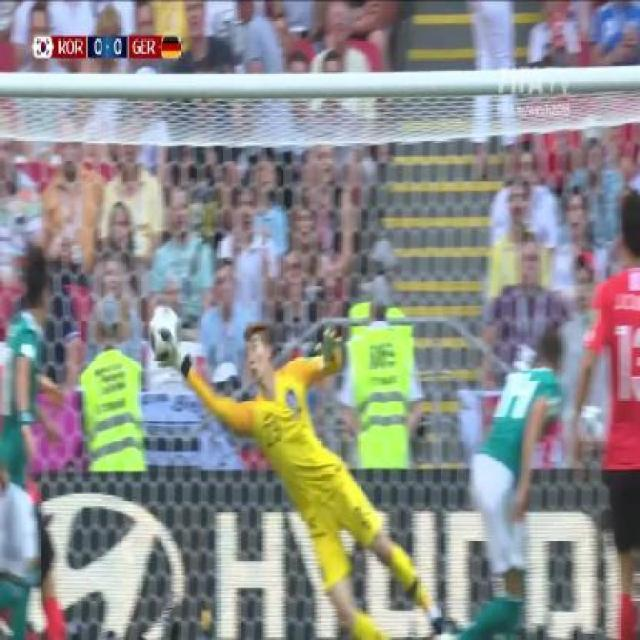ball: (147, 300, 183, 363)
player: (176, 318, 438, 640), (566, 161, 639, 594), (459, 347, 558, 640), (0, 234, 71, 640)
